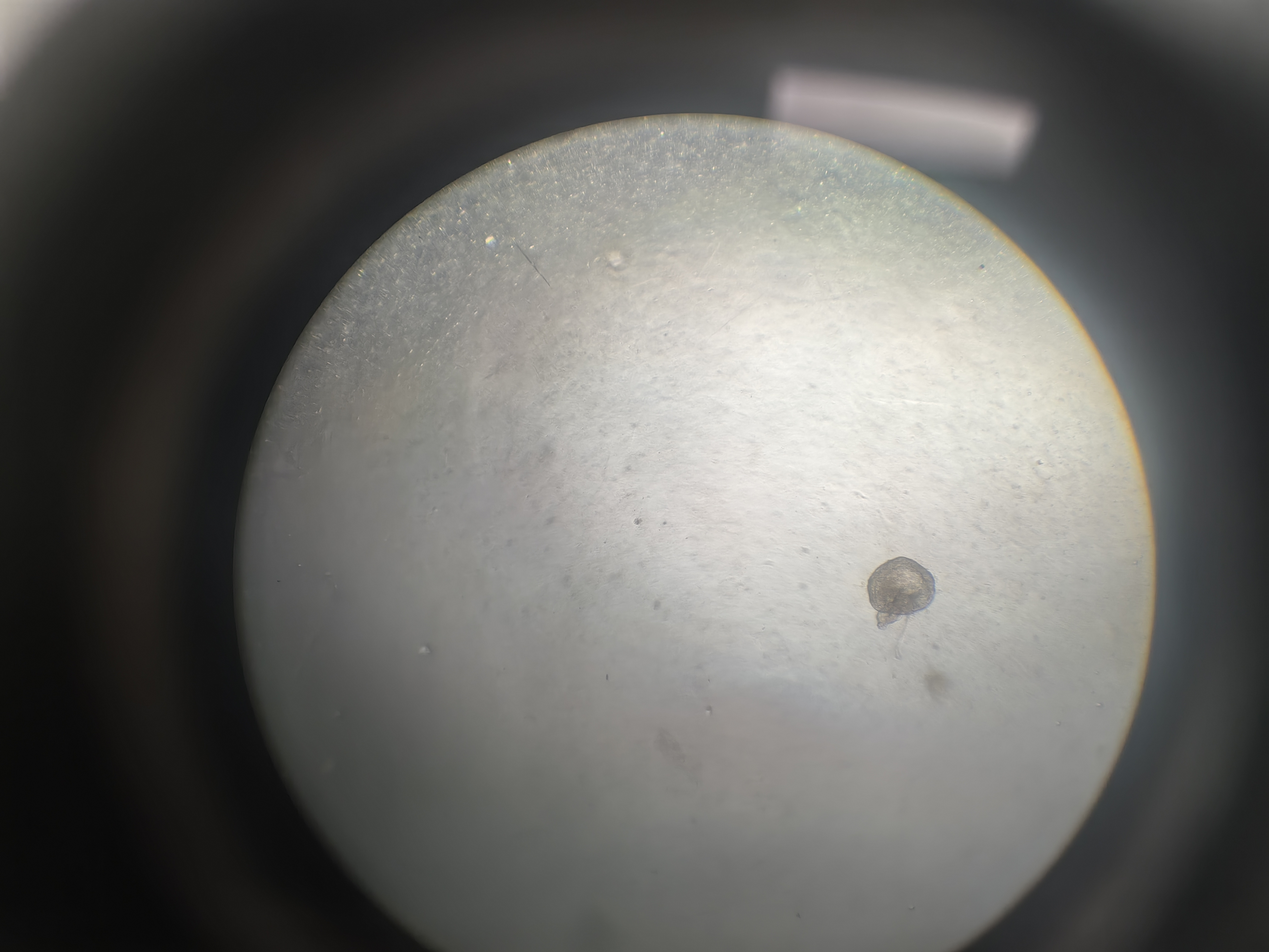organoid: (735, 423, 822, 514), (517, 572, 567, 629), (777, 378, 799, 398)
